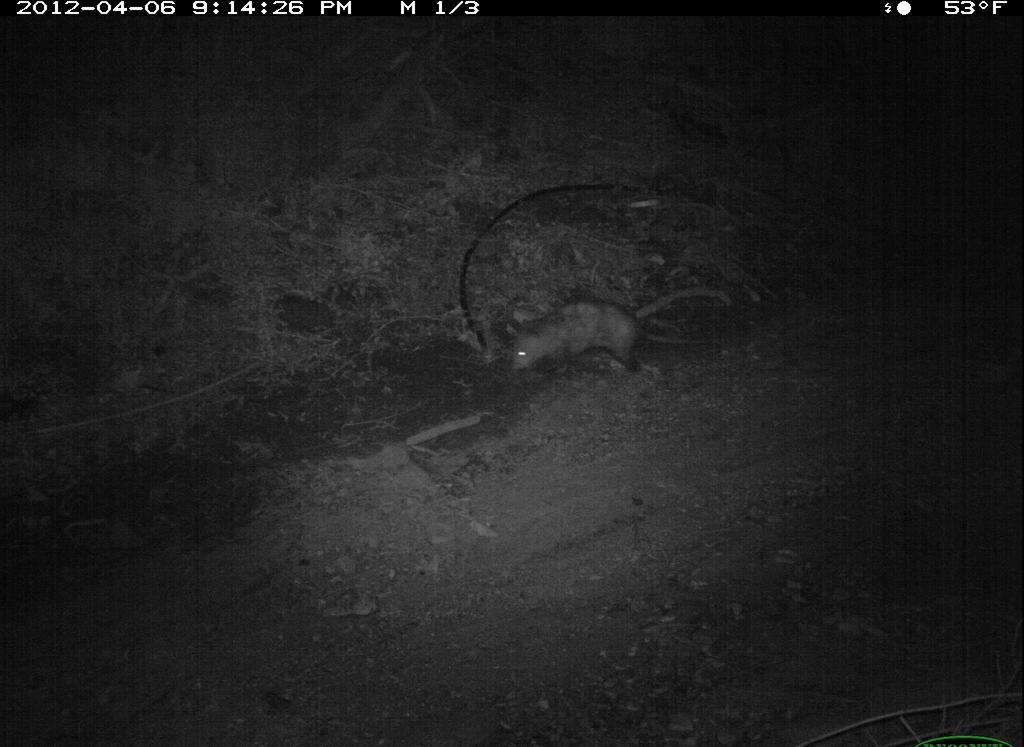opossum: (504, 294, 729, 392)
